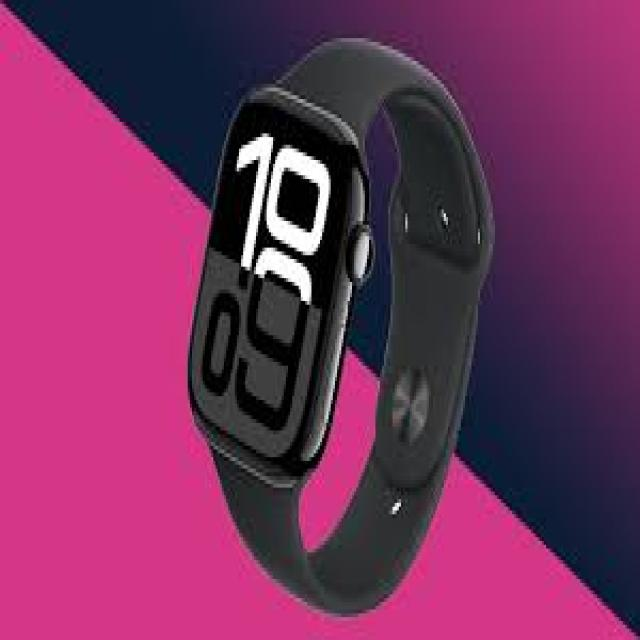objects: (188, 38, 493, 613)
